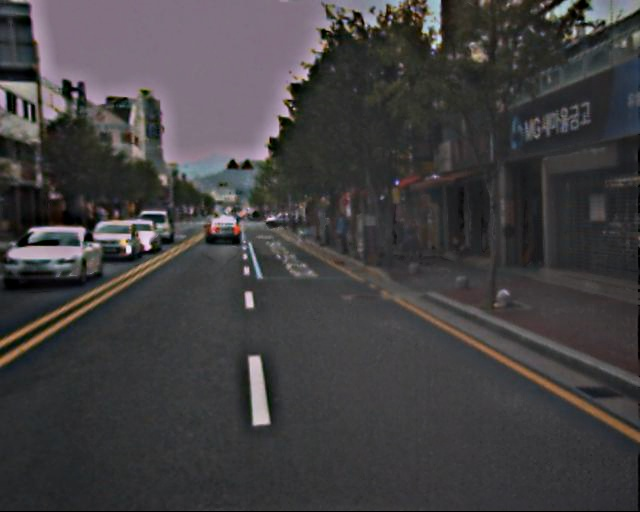person: (403, 217, 421, 262), (335, 213, 352, 255)
